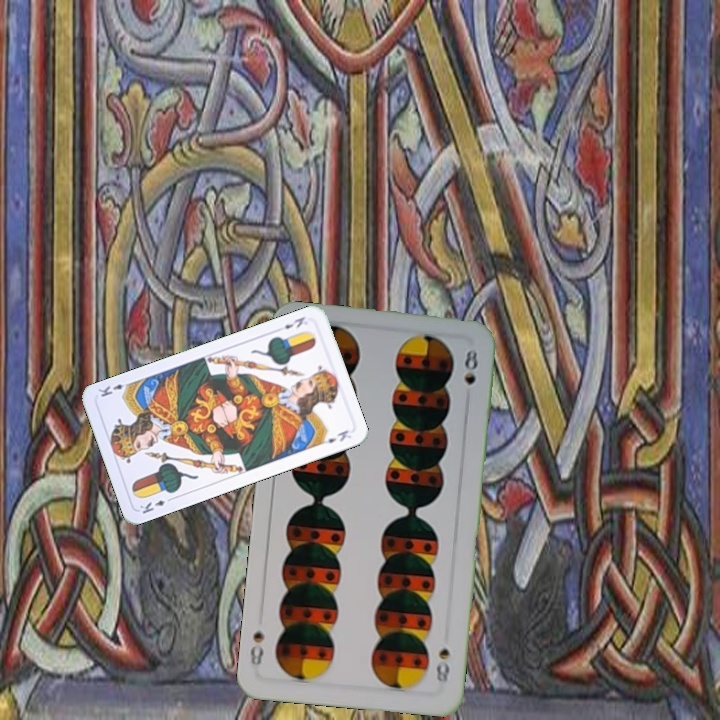EK: (135, 493, 176, 516), (280, 312, 308, 331)
S8: (432, 644, 452, 690)
